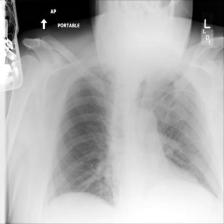normal: (48, 60, 216, 207)
